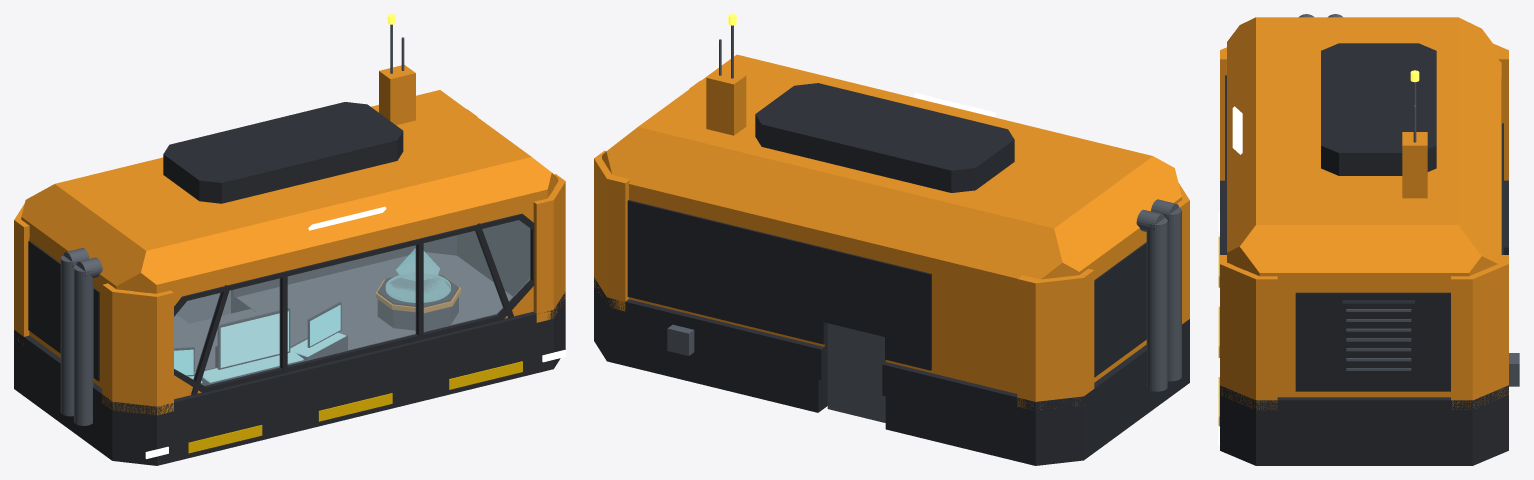
Rendered from SM_CommandCenter_Blockout.glb.
3 renders of one model, left to right at view 1: azimuth 30°, elevation 25°; view 2: azimuth 150°, elevation 25°; view 3: azimuth 270°, elevation 25°, orthographic. The views are drawn at different scales.
Visible parts, largest first — view 1: MAIN_SHELL, BASE, WINDOW_GLASS, ROOF, FLOOR, CORNER_ARMOR_-1-1, WINDOW_FRAMES, CORNER_ARMOR_+1-1, SIDE_PANEL_L, EXHAUST_PIPES_0, DISPLAY_MAIN_RT, HOLO_PEDESTAL (+16 smaller); view 2: MAIN_SHELL, BASE, BACK_PANEL, ROOF, CORNER_ARMOR_-1+1, SIDE_PANEL_L, DOOR, CORNER_ARMOR_+1+1, EXHAUST_PIPES_1, EXHAUST_PIPES_0, BEACON_housing, CORNER_ARMOR_-1-1 (+1 smaller); view 3: MAIN_SHELL, BASE, ROOF, SIDE_PANEL_R, CORNER_ARMOR_+1-1, CORNER_ARMOR_+1+1, VENTS_housing, BEACON_housing, CORNER_ARMOR_-1+1, CORNER_ARMOR_-1-1, LIGHTS_front_bar, BACK_PANEL (+2 smaller).
Boxes of the visible parts, left/top/right/bottom form: MAIN_SHELL: left=21, top=90, right=558, bottom=399; BASE: left=14, top=233, right=565, bottom=465; WINDOW_GLASS: left=174, top=220, right=530, bottom=385; ROOF: left=163, top=102, right=403, bottom=203; FLOOR: left=174, top=252, right=512, bottom=370; CORNER_ARMOR_-1-1: left=102, top=283, right=173, bottom=415; WINDOW_FRAMES: left=174, top=213, right=534, bottom=392; CORNER_ARMOR_+1-1: left=533, top=174, right=565, bottom=322; SIDE_PANEL_L: left=28, top=240, right=99, bottom=381; EXHAUST_PIPES_0: left=74, top=265, right=93, bottom=425; DISPLAY_MAIN_RT: left=220, top=311, right=288, bottom=367; HOLO_PEDESTAL: left=377, top=275, right=458, bottom=331; MAIN_SHELL: left=602, top=54, right=1181, bottom=393; BASE: left=594, top=277, right=1189, bottom=465; BACK_PANEL: left=627, top=200, right=931, bottom=370; ROOF: left=755, top=83, right=1014, bottom=192; CORNER_ARMOR_-1+1: left=1017, top=268, right=1094, bottom=410; SIDE_PANEL_L: left=1094, top=242, right=1146, bottom=377; DOOR: left=827, top=323, right=885, bottom=422; CORNER_ARMOR_+1+1: left=594, top=150, right=630, bottom=311; EXHAUST_PIPES_1: left=1146, top=218, right=1167, bottom=391; EXHAUST_PIPES_0: left=1163, top=207, right=1181, bottom=381; BEACON_housing: left=706, top=69, right=746, bottom=135; CORNER_ARMOR_-1-1: left=1177, top=183, right=1189, bottom=324; MAIN_SHELL: left=1227, top=17, right=1501, bottom=397; BASE: left=1220, top=180, right=1508, bottom=465; ROOF: left=1321, top=43, right=1436, bottom=175; SIDE_PANEL_R: left=1295, top=292, right=1450, bottom=391; CORNER_ARMOR_+1-1: left=1220, top=255, right=1277, bottom=410; CORNER_ARMOR_+1+1: left=1451, top=255, right=1508, bottom=409; VENTS_housing: left=1342, top=300, right=1414, bottom=375; BEACON_housing: left=1402, top=132, right=1427, bottom=198; CORNER_ARMOR_-1+1: left=1493, top=44, right=1508, bottom=180; CORNER_ARMOR_-1-1: left=1220, top=47, right=1226, bottom=180; LIGHTS_front_bar: left=1232, top=106, right=1242, bottom=154; BACK_PANEL: left=1501, top=123, right=1503, bottom=254.
Bounding box in the file's own units: 16.63 × 10.35 × 8.35.
